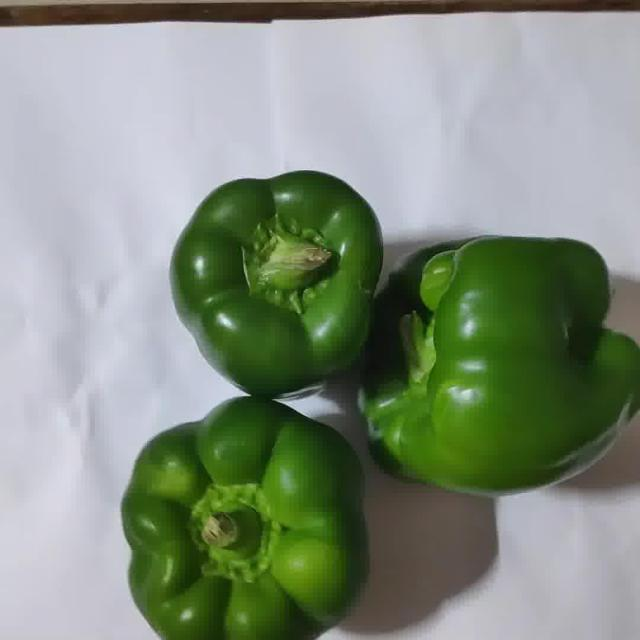Bell Pepper: (360, 237, 639, 493), (122, 400, 369, 639), (171, 171, 382, 397)
